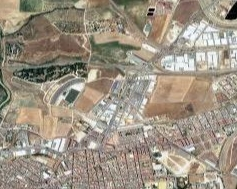industrial: (156, 20, 237, 78), (95, 72, 150, 133)
motorway: (94, 69, 149, 147), (134, 1, 190, 71), (149, 112, 211, 170), (1, 57, 153, 75), (148, 64, 237, 84)
